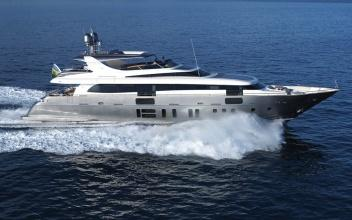yacht: (12, 34, 339, 122)
